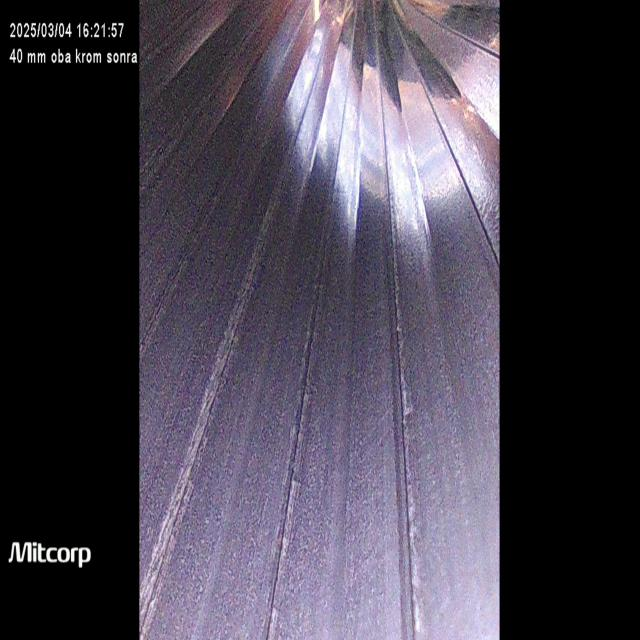hata_8.1: (379, 190, 429, 640)
